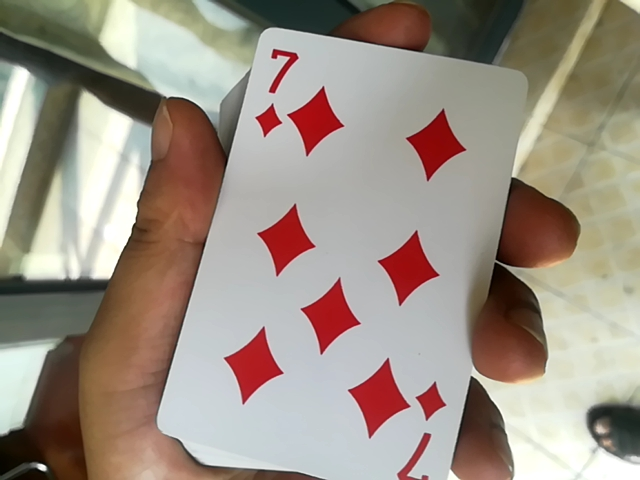fk 7: (157, 31, 516, 476)
